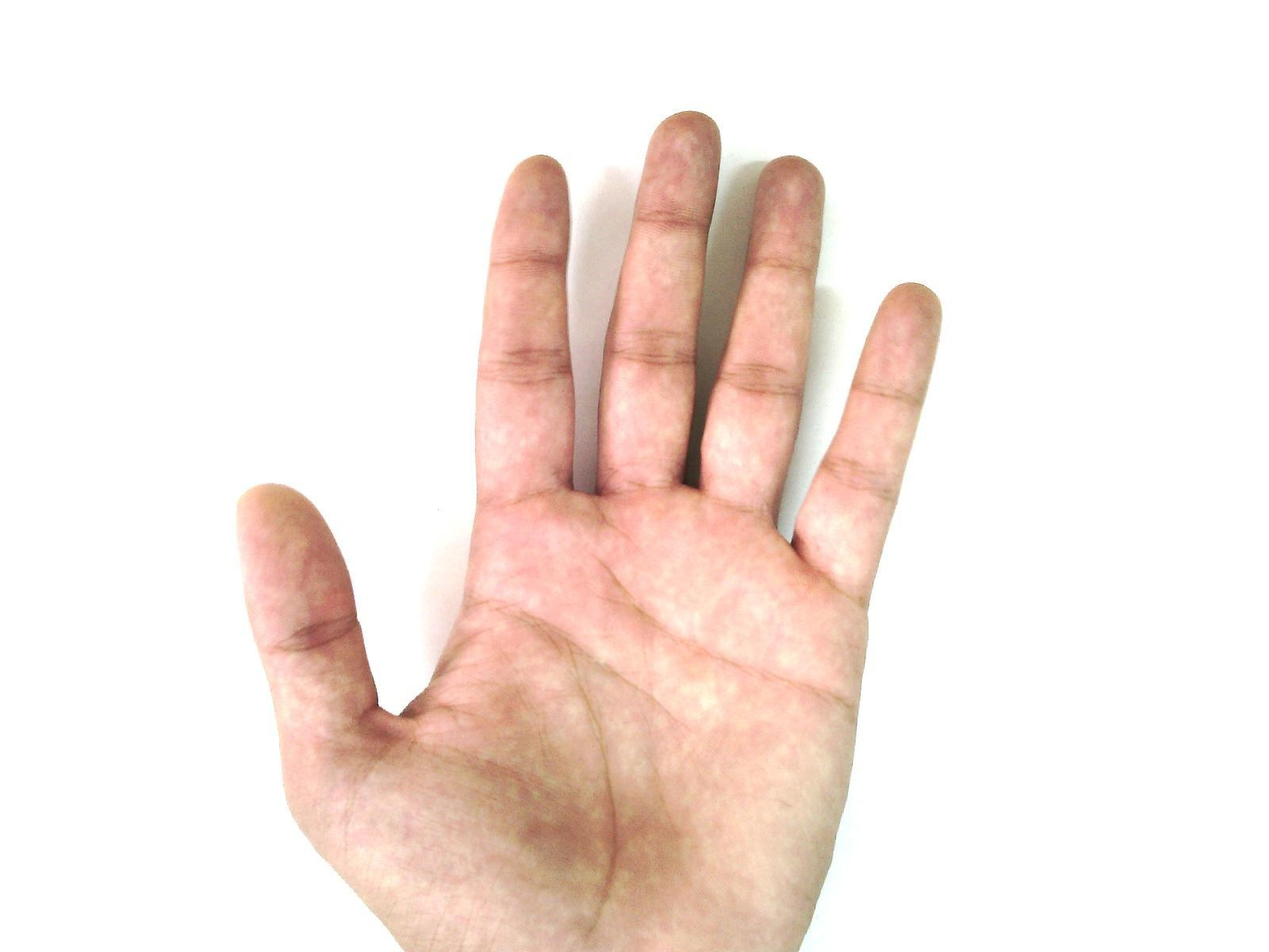open_palm: (234, 109, 945, 952)
